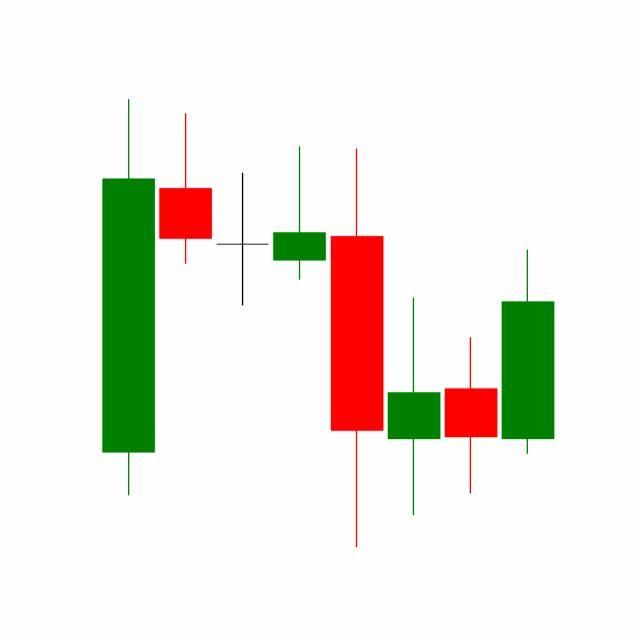Hikkake Pattern: (270, 142, 555, 548)
